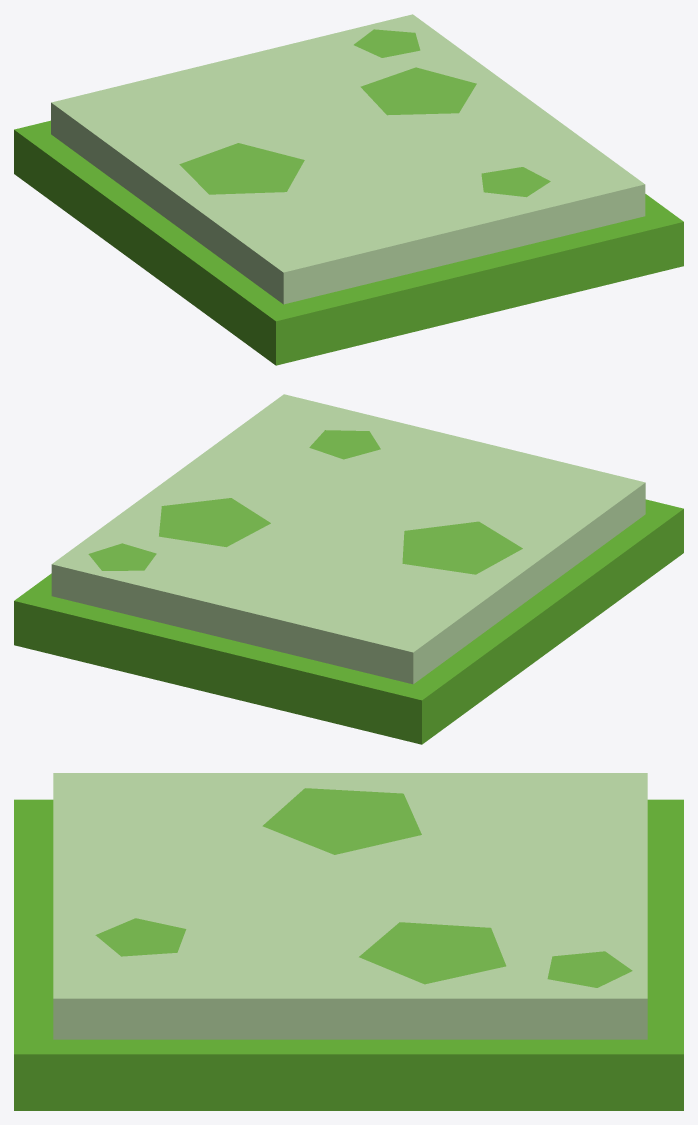
Rendered from Wizard_Platform.fbx.
3 views of the same model, one above another, from view 1: azimuth 30°, elevation 25°; view 2: azimuth 150°, elevation 25°; view 3: azimuth 270°, elevation 25° (orthographic). The views are drawn at different scales.
Parts seen in each view (by area): view 1: Wizard_Platform_Geo; view 2: Wizard_Platform_Geo; view 3: Wizard_Platform_Geo.
Boxes of the visible parts, box(x1,y1,x2,y2) form: Wizard_Platform_Geo: box(14, 14, 683, 365); Wizard_Platform_Geo: box(14, 394, 683, 744); Wizard_Platform_Geo: box(14, 773, 683, 1110).
Bounding box in the file's own units: 250 × 44.57 × 278.
